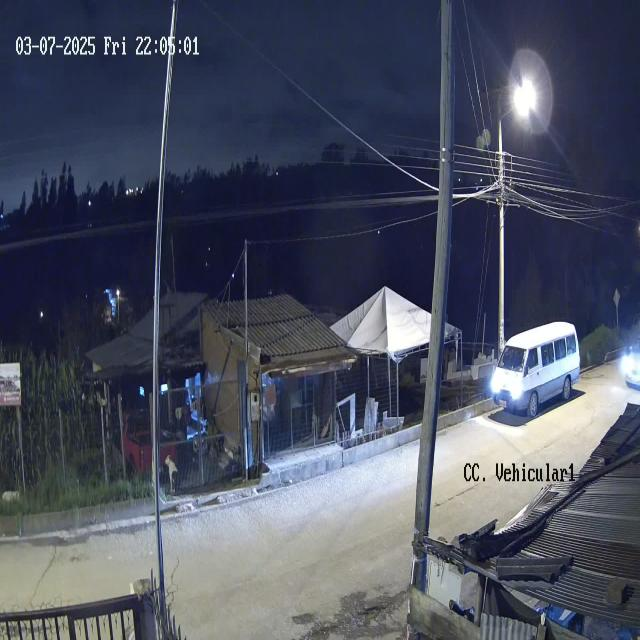BUS: (489, 317, 582, 424)
